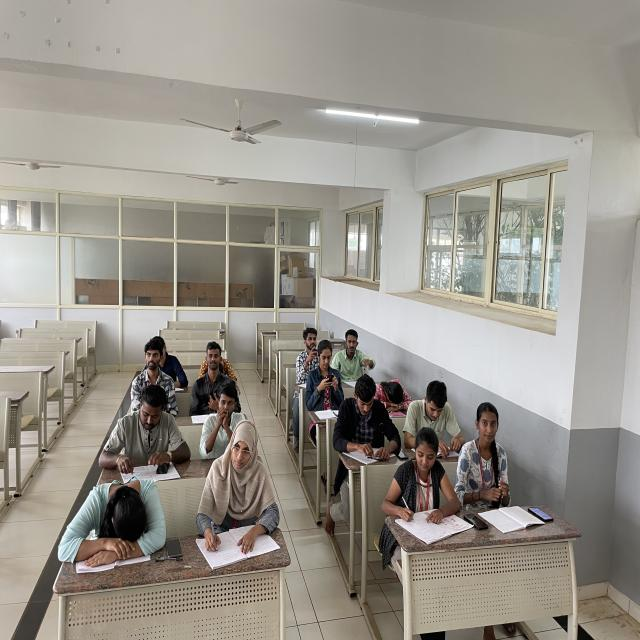Reading: (94, 382, 196, 472), (401, 378, 465, 452)
Sleeping: (56, 471, 171, 565), (376, 376, 420, 418)
Using Phone: (305, 340, 345, 408)
Writing: (190, 424, 279, 564), (380, 430, 460, 534), (336, 377, 401, 464)
